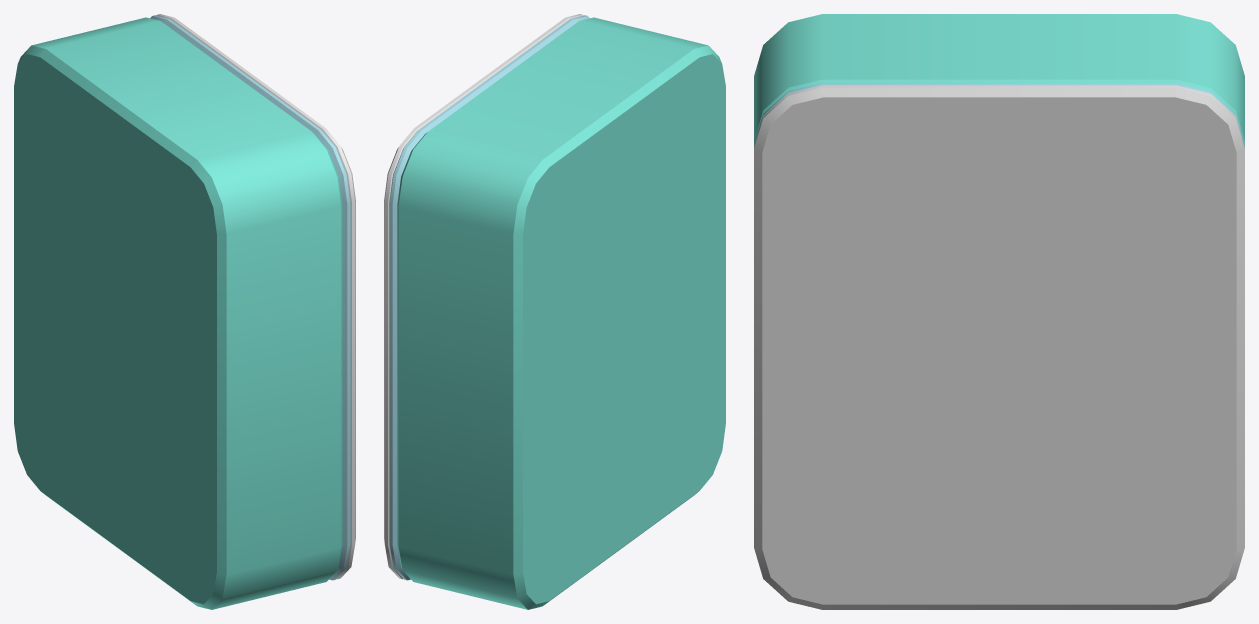
Rendered from Mirror_02.glb.
3 renders of one model, left to right at view 1: azimuth 30°, elevation 25°; view 2: azimuth 150°, elevation 25°; view 3: azimuth 270°, elevation 25°, orthographic. The views are drawn at different scales.
Visible parts, largest first — view 1: Mirror, Mirror.002; view 2: Mirror, Mirror.002; view 3: Mirror.002, Mirror.
Part boxes in pixels (x1,y1,x2,y2): Mirror: (14,17,342,609); Mirror.002: (150,14,355,580); Mirror: (397,17,725,609); Mirror.002: (384,14,589,580); Mirror.002: (754,83,1244,609); Mirror: (754,14,1244,144).
Size of the model in its own units: 0.1629 by 0.5 by 0.4258.
4 materials, 2 textured.
